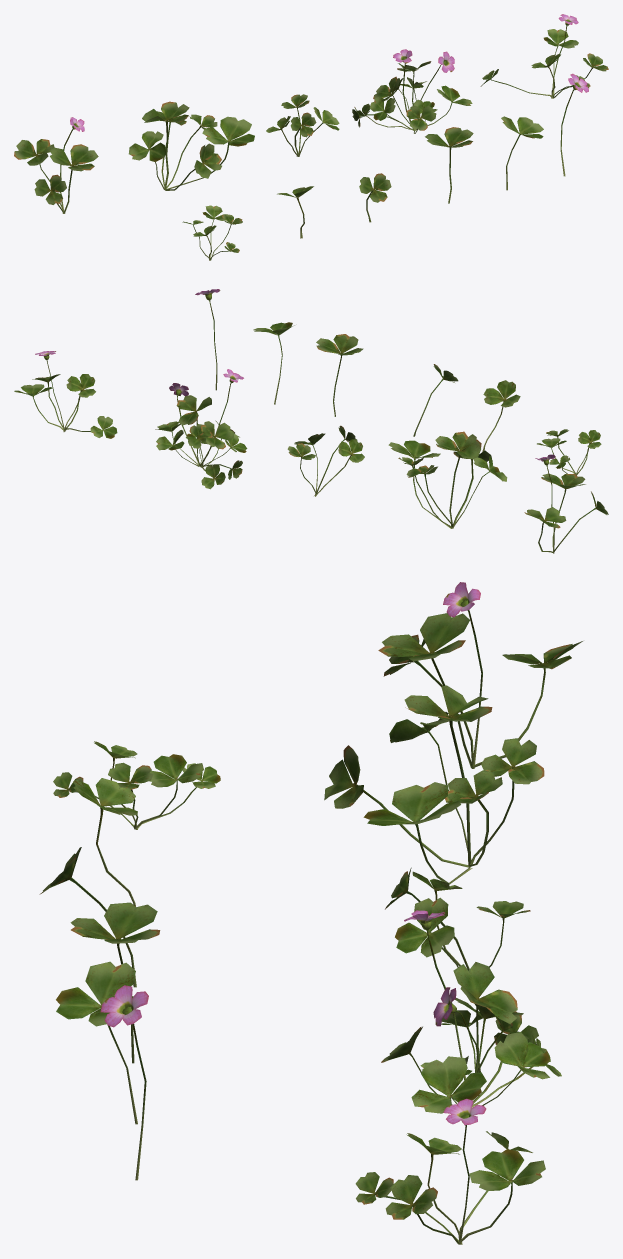
The model's file is shrub_sorrel_01.glb.
The picture shows the model from 3 angles, top to bottom: view 1: azimuth 30°, elevation 25°; view 2: azimuth 150°, elevation 25°; view 3: azimuth 270°, elevation 25°; orthographic projection. The views are drawn at different scales.
Parts seen in each view (by area): view 1: shrub_sorrel_01_b, shrub_sorrel_01_d, shrub_sorrel_01_a, shrub_sorrel_01_e, shrub_sorrel_01_c, shrub_sorrel_01_f, shrub_sorrel_01_i, shrub_sorrel_01_h, shrub_sorrel_01_j, shrub_sorrel_01_k; view 2: shrub_sorrel_01_d, shrub_sorrel_01_b, shrub_sorrel_01_e, shrub_sorrel_01_a, shrub_sorrel_01_c, shrub_sorrel_01_f, shrub_sorrel_01_i, shrub_sorrel_01_g, shrub_sorrel_01_j; view 3: shrub_sorrel_01_b, shrub_sorrel_01_d, shrub_sorrel_01_e, shrub_sorrel_01_a, shrub_sorrel_01_f, shrub_sorrel_01_c, shrub_sorrel_01_j, shrub_sorrel_01_i, shrub_sorrel_01_k, shrub_sorrel_01_g.
Boxes of the visible parts, x1,y1,x2,y2 form: shrub_sorrel_01_b: (128,101,254,190); shrub_sorrel_01_d: (352,49,472,133); shrub_sorrel_01_a: (14,117,98,213); shrub_sorrel_01_e: (480,14,608,98); shrub_sorrel_01_c: (266,94,339,156); shrub_sorrel_01_f: (182,205,242,260); shrub_sorrel_01_i: (425,127,473,203); shrub_sorrel_01_h: (359,173,391,222); shrub_sorrel_01_j: (501,116,543,190); shrub_sorrel_01_k: (560,73,588,176); shrub_sorrel_01_d: (155,369,247,489); shrub_sorrel_01_b: (388,431,507,528); shrub_sorrel_01_e: (14,351,117,438); shrub_sorrel_01_a: (524,454,608,553); shrub_sorrel_01_c: (287,425,364,496); shrub_sorrel_01_f: (537,429,601,475); shrub_sorrel_01_i: (316,334,363,416); shrub_sorrel_01_g: (482,380,520,451); shrub_sorrel_01_j: (253,322,294,404); shrub_sorrel_01_b: (324,685,544,884); shrub_sorrel_01_d: (381,910,561,1113); shrub_sorrel_01_e: (355,1098,545,1244); shrub_sorrel_01_a: (378,582,582,768); shrub_sorrel_01_f: (53,741,220,829); shrub_sorrel_01_c: (385,867,530,970); shrub_sorrel_01_j: (56,961,137,1124); shrub_sorrel_01_i: (70,902,160,1063); shrub_sorrel_01_k: (100,985,148,1180); shrub_sorrel_01_g: (73,778,137,906).
Bounding box in the file's own units: 0.3521 × 0.058 × 0.1464.
1 material, 1 textured.
